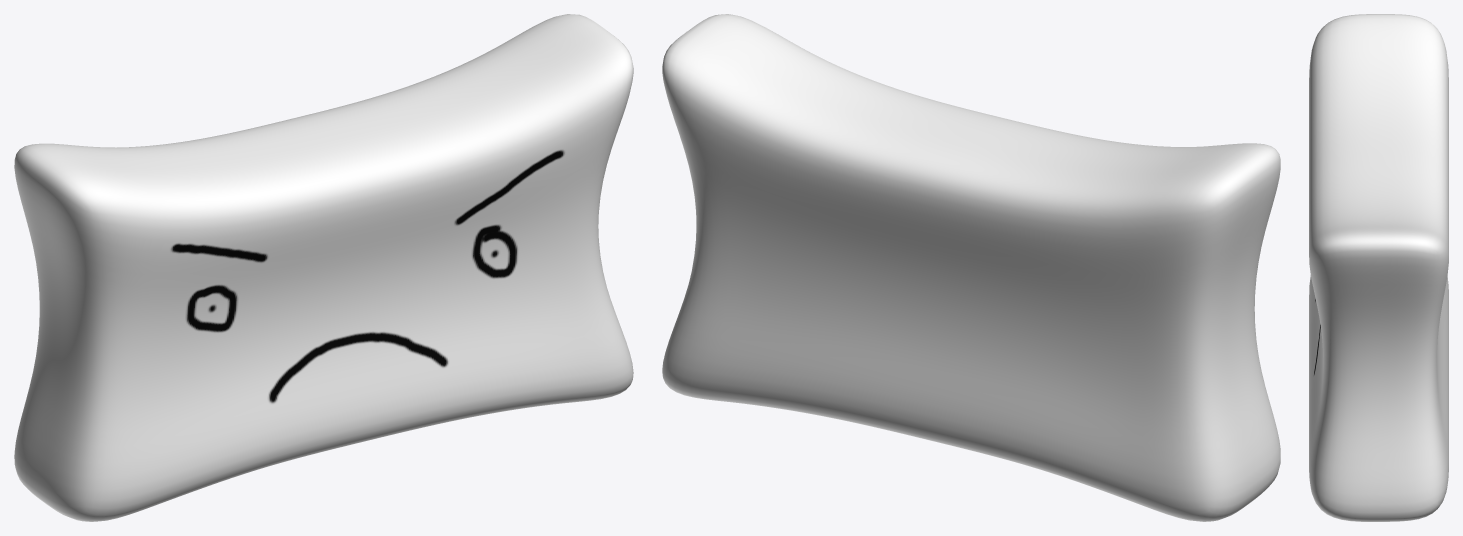
The model's file is AngryPillow.fbx.
3 views of the same model, side by side, from view 1: azimuth 30°, elevation 25°; view 2: azimuth 150°, elevation 25°; view 3: azimuth 270°, elevation 25° (orthographic). The views are drawn at different scales.
Visible parts, largest first — view 1: Cube; view 2: Cube; view 3: Cube.
Part boxes in pixels (x1,y1,x2,y2): Cube: [14, 14, 633, 521]; Cube: [662, 14, 1280, 521]; Cube: [1309, 14, 1448, 521].
Size of the model in its own units: 888 by 515 by 226.
1 material, 1 textured.
